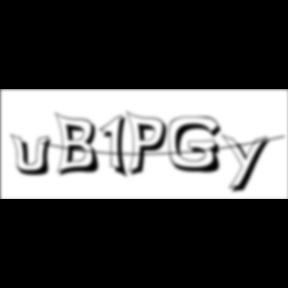1: (98, 114, 134, 182)
B: (55, 111, 105, 179)
G: (168, 116, 228, 176)
P: (127, 110, 174, 180)
u: (10, 132, 58, 178)
y: (222, 132, 276, 196)
